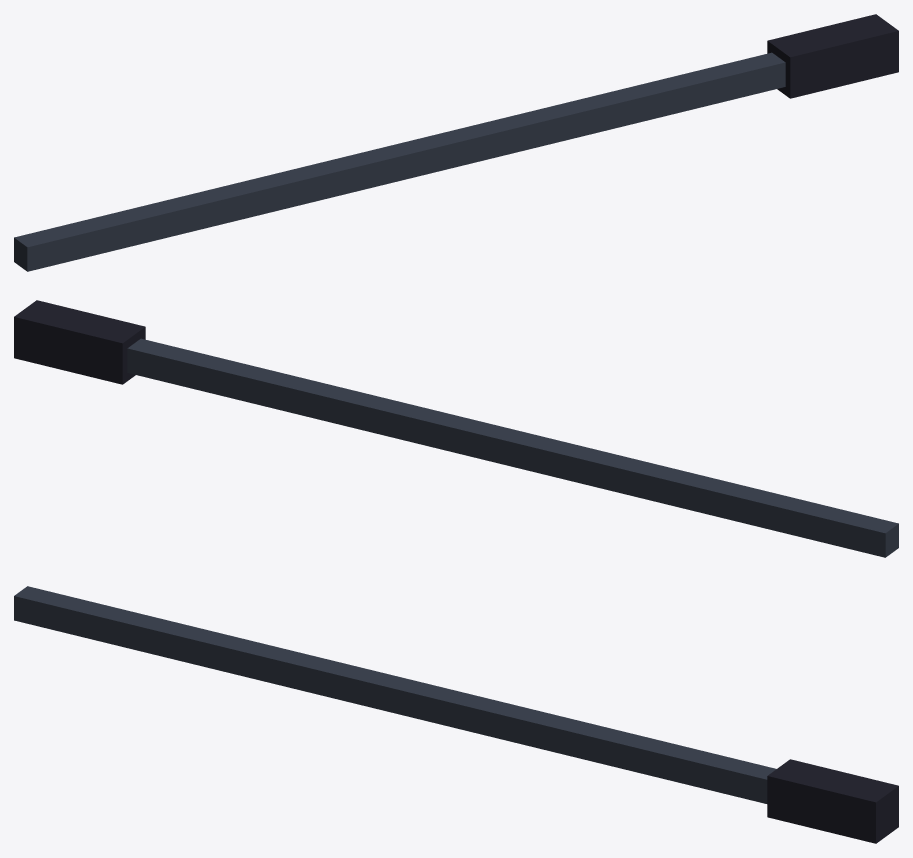
The model's file is Cable_C_1_2.fbx.
The picture shows the model from 3 angles, top to bottom: view 1: azimuth 30°, elevation 25°; view 2: azimuth 150°, elevation 25°; view 3: azimuth 330°, elevation 25°; orthographic projection.
Parts seen in each view (by area): view 1: Cable_C_1_2; view 2: Cable_C_1_2; view 3: Cable_C_1_2.
Boxes of the visible parts, x1,y1,x2,y2 form: Cable_C_1_2: [14, 14, 898, 271]; Cable_C_1_2: [14, 300, 898, 557]; Cable_C_1_2: [14, 586, 898, 843].
Bounding box in the file's own units: 215 × 9.83 × 9.83.
